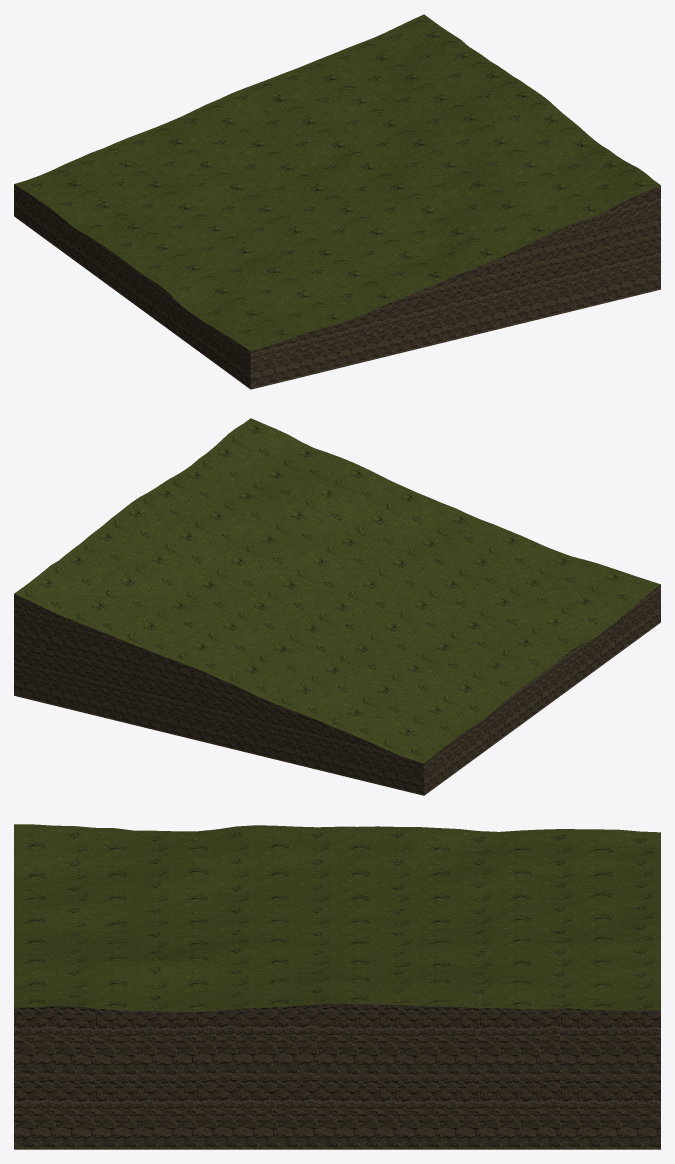
Rendered from hill_slope_01.glb.
3 views of the same model, one above another, from view 1: azimuth 30°, elevation 25°; view 2: azimuth 150°, elevation 25°; view 3: azimuth 270°, elevation 25° (orthographic). The views are drawn at different scales.
Visible parts, largest first — view 1: hill_slope_01; view 2: hill_slope_01; view 3: hill_slope_01.
Part boxes in pixels (x1,y1,x2,y2): hill_slope_01: [14, 14, 660, 389]; hill_slope_01: [14, 418, 660, 795]; hill_slope_01: [14, 824, 660, 1149].
Size of the model in its own units: 16 by 3.99 by 16.
Materials: 2 (2 with a texture image).
